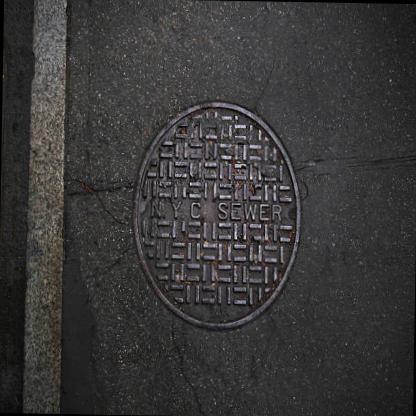manholes: (108, 75, 333, 342)
